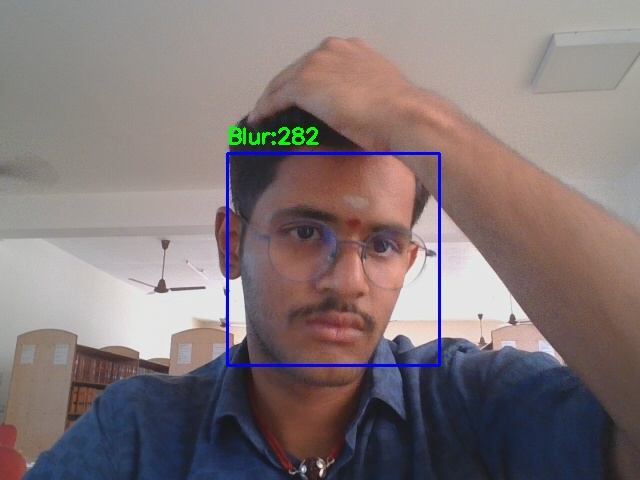real: (227, 153, 439, 365)
